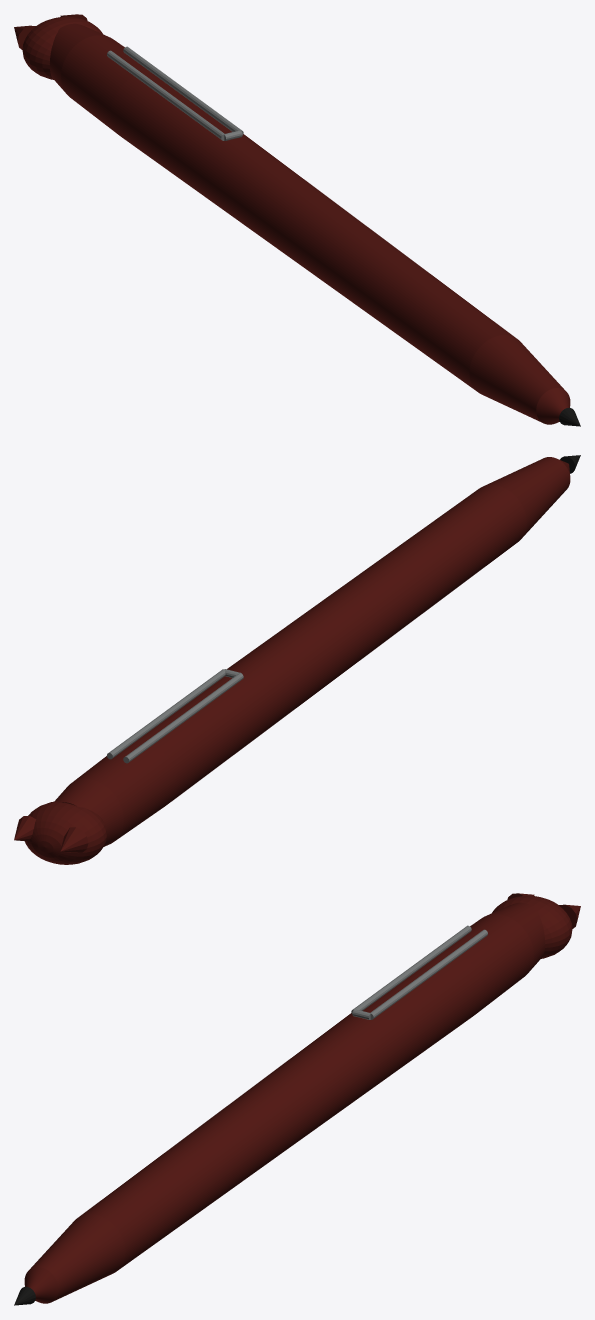
The model's file is pen.obj.
The picture shows the model from 3 angles, top to bottom: view 1: azimuth 30°, elevation 25°; view 2: azimuth 150°, elevation 25°; view 3: azimuth 330°, elevation 25°; orthographic projection.
Visible parts, largest first — view 1: plastic, steel, head; view 2: plastic, head, steel; view 3: plastic, steel, head.
Part boxes in pixels (bbox=[...]): plastic: bbox=[49, 23, 570, 424]; steel: bbox=[107, 46, 243, 140]; head: bbox=[14, 14, 102, 79]; plastic: bbox=[54, 457, 570, 846]; head: bbox=[14, 801, 107, 864]; steel: bbox=[107, 669, 243, 763]; plastic: bbox=[24, 902, 545, 1303]; steel: bbox=[351, 925, 487, 1019]; head: bbox=[492, 893, 580, 958].
Bounding box in the file's own units: 0.0109 × 0.0103 × 0.1378.
